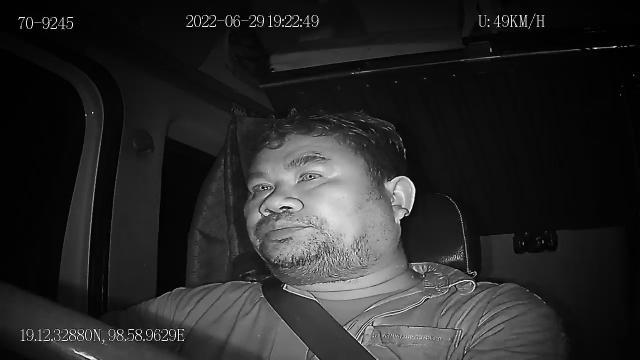SafeDriving: (294, 160, 330, 188), (245, 173, 279, 199)
Seatbelt: (260, 272, 380, 360)
